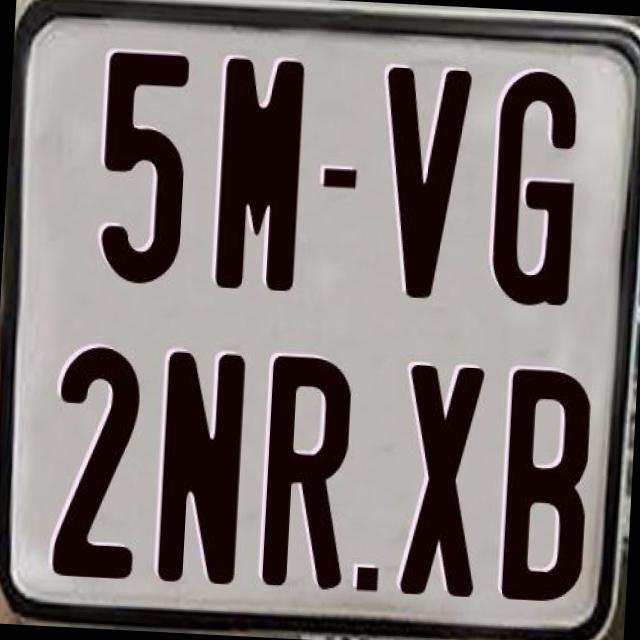2: (49, 340, 147, 578)
5: (98, 47, 198, 290)
B: (498, 367, 590, 608)
G: (487, 66, 584, 314)
M: (213, 56, 307, 294)
N: (156, 350, 252, 594)
R: (262, 353, 354, 587)
V: (372, 64, 475, 303)
X: (396, 361, 488, 594)
